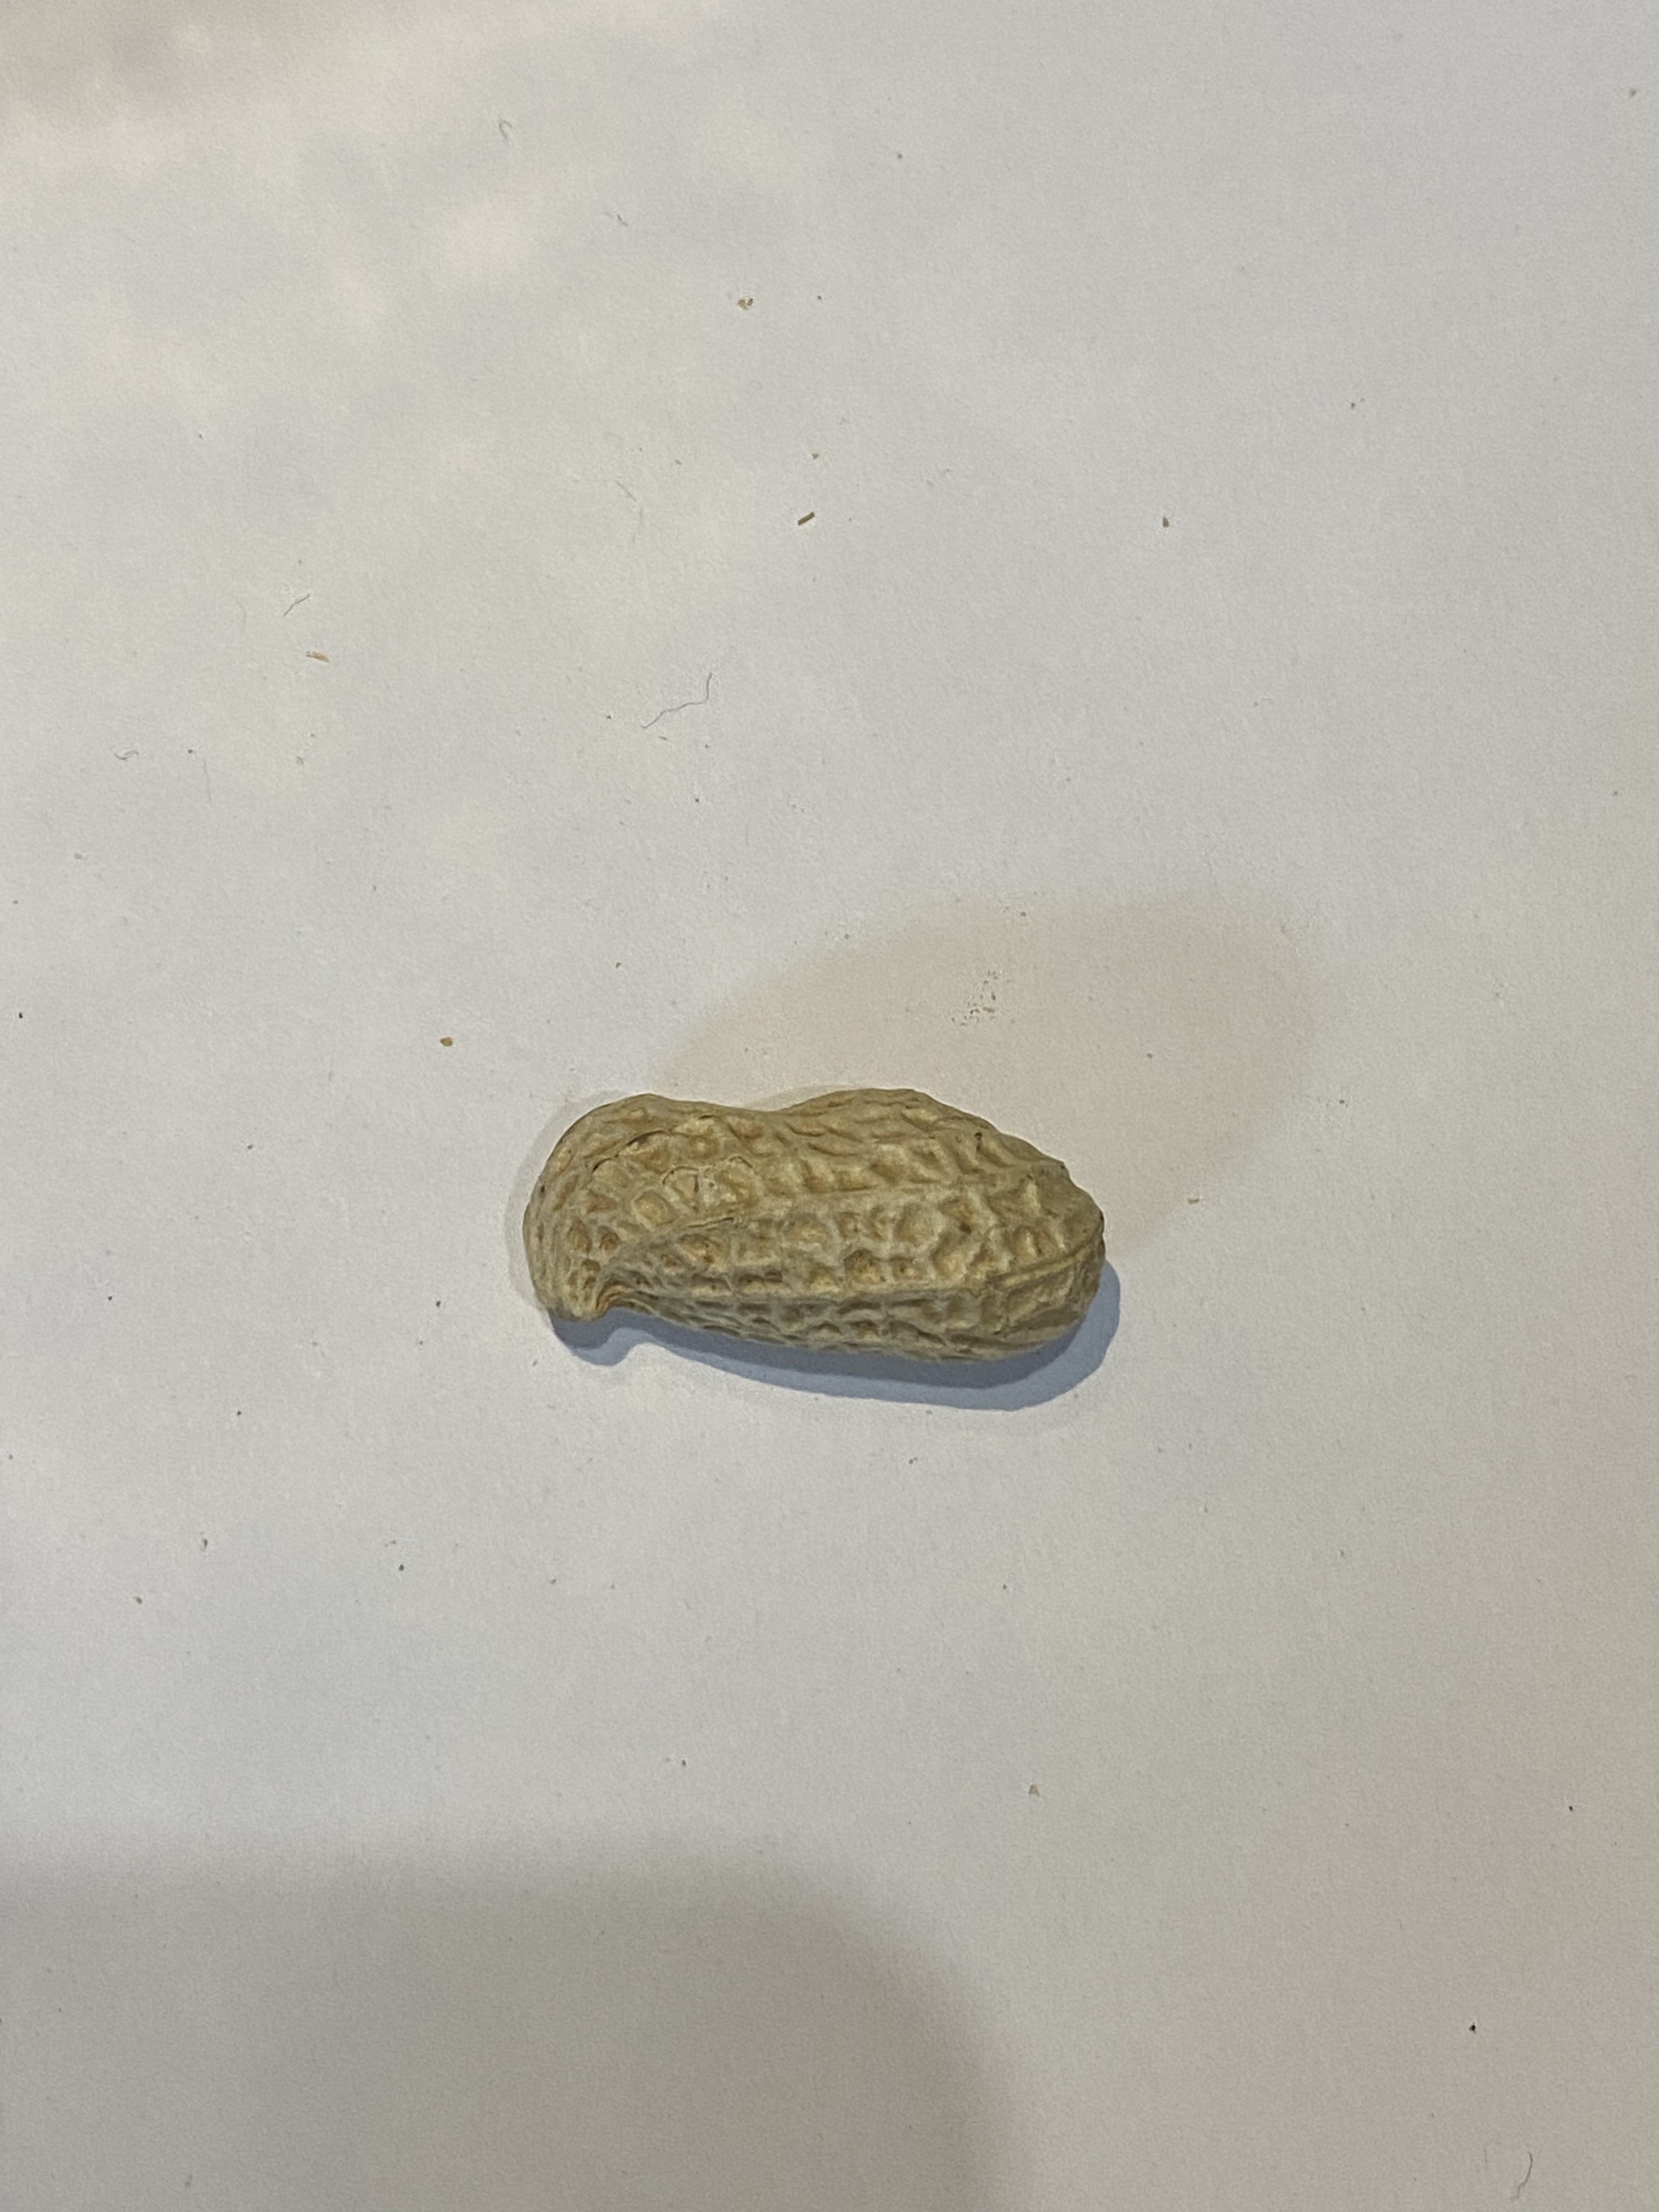kacang2: (491, 1071, 1122, 1371)
